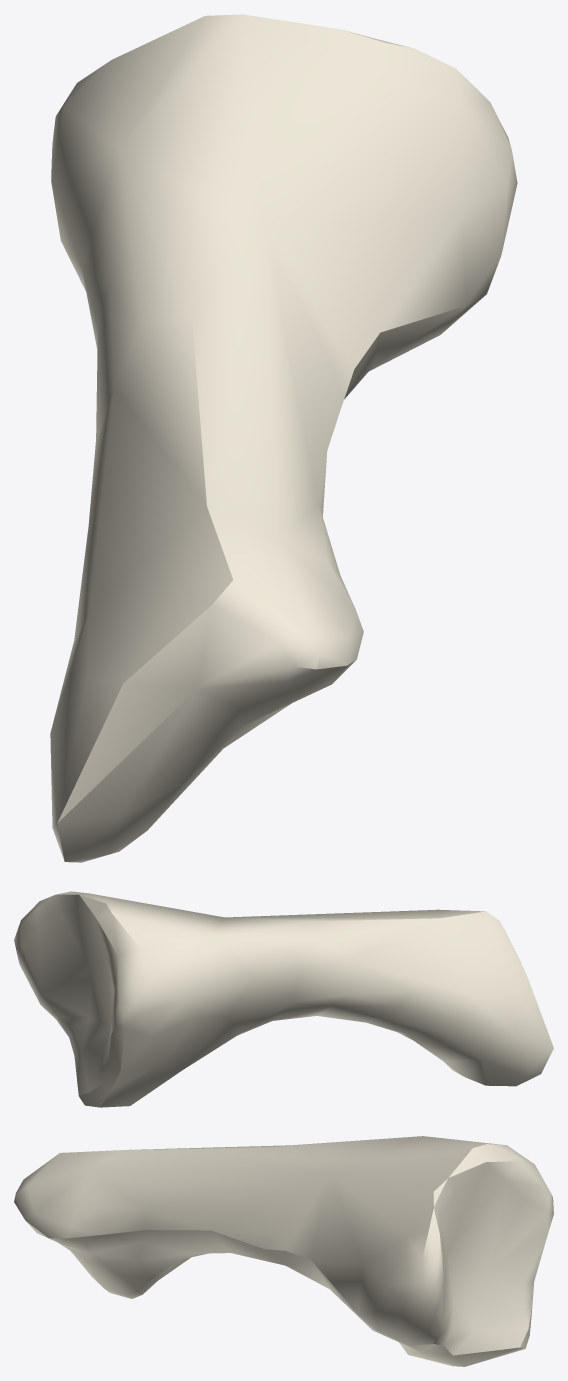
The model's file is fma32638_fj6417m.glb.
The picture shows the model from 3 angles, top to bottom: view 1: azimuth 30°, elevation 25°; view 2: azimuth 150°, elevation 25°; view 3: azimuth 270°, elevation 25°; orthographic projection. The views are drawn at different scales.
Visible parts, largest first — view 1: FMA32638_FJ6417M; view 2: FMA32638_FJ6417M; view 3: FMA32638_FJ6417M.
Boxes of the visible parts, <box> form: FMA32638_FJ6417M: <box>50,14,517,862</box>; FMA32638_FJ6417M: <box>14,891,553,1107</box>; FMA32638_FJ6417M: <box>14,1136,553,1366</box>.
Bounding box in the file's own units: 0.0215 × 0.0132 × 0.024.
